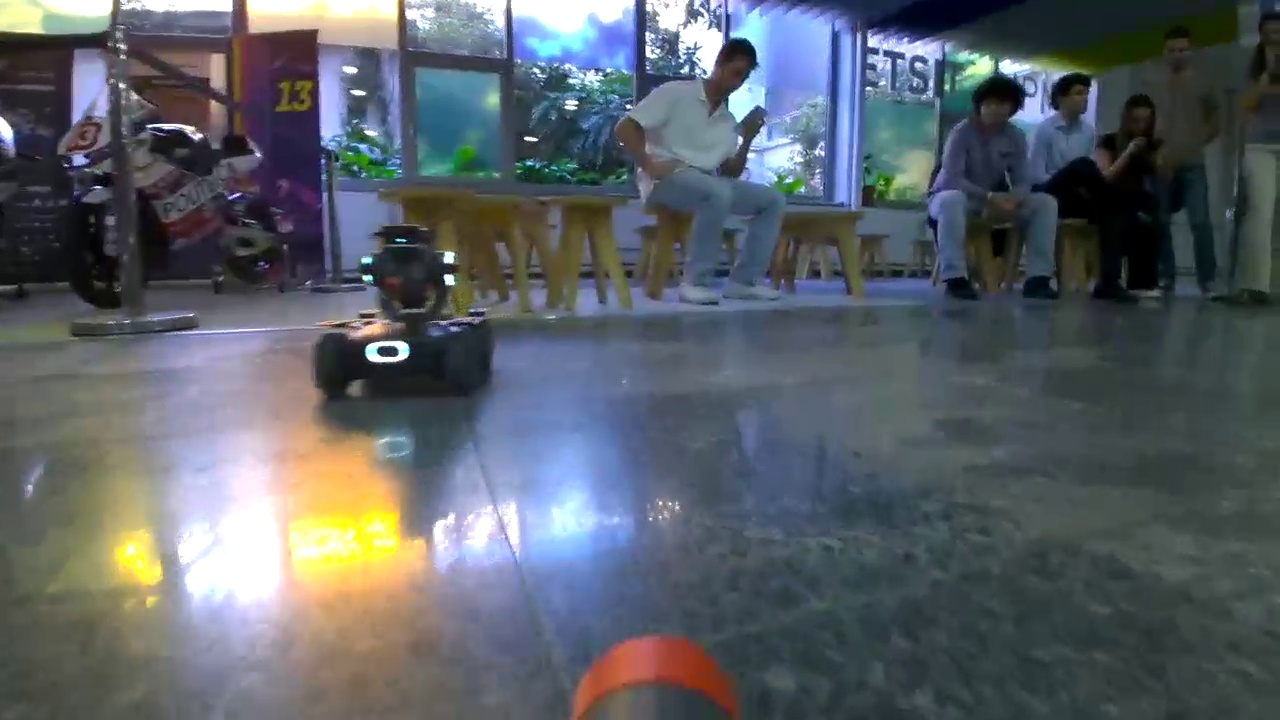robot: (312, 225, 495, 418)
